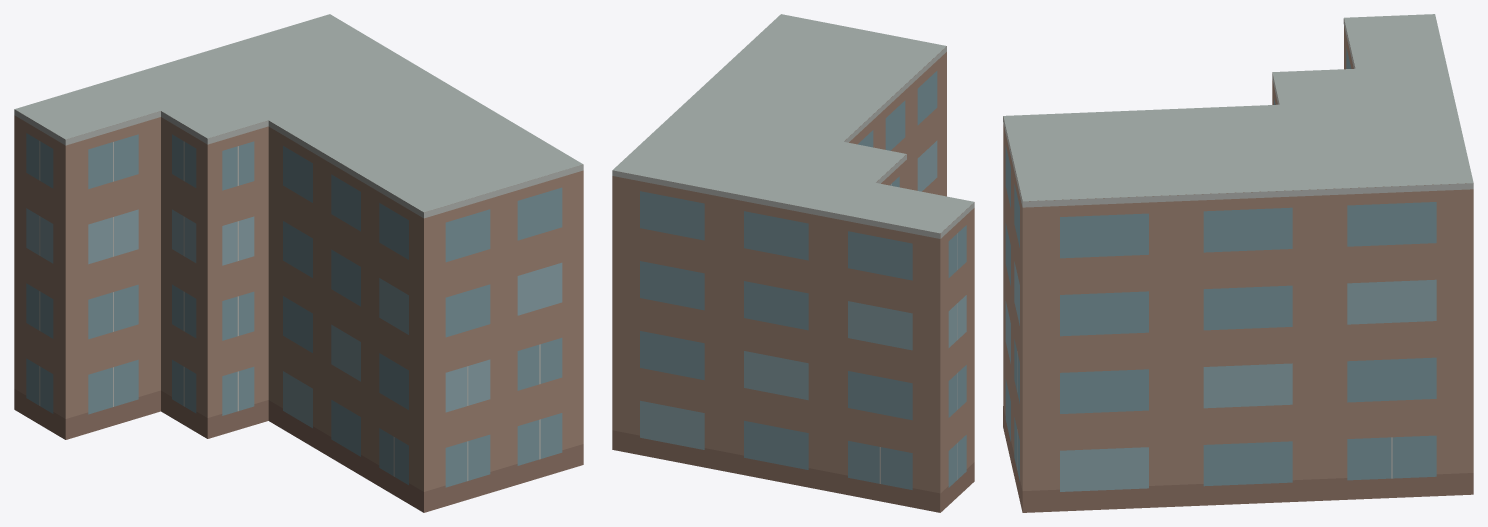
The model's file is residential-d9060539-a11a-441f-9a49-d50f91ce9950.glb.
3 renders of one model, left to right at view 1: azimuth 30°, elevation 25°; view 2: azimuth 150°, elevation 25°; view 3: azimuth 270°, elevation 25°, orthographic. The views are drawn at different scales.
Visible parts, largest first — view 1: residential-d9060539-a11a-441f-9a49-d50f91ce9950.tmp; view 2: residential-d9060539-a11a-441f-9a49-d50f91ce9950.tmp; view 3: residential-d9060539-a11a-441f-9a49-d50f91ce9950.tmp.
Part boxes in pixels (x1=…): residential-d9060539-a11a-441f-9a49-d50f91ce9950.tmp: x1=14, y1=14, x2=583, y2=512; residential-d9060539-a11a-441f-9a49-d50f91ce9950.tmp: x1=612, y1=14, x2=974, y2=512; residential-d9060539-a11a-441f-9a49-d50f91ce9950.tmp: x1=1003, y1=14, x2=1473, y2=512.
Size of the model in its own units: 15.75 by 12.2 by 16.71.
